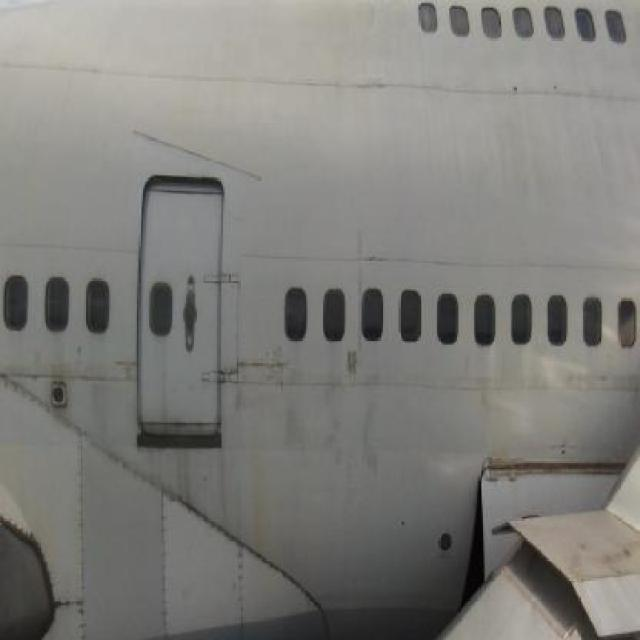Rust: (242, 422, 276, 570)
Scartch: (341, 344, 359, 378)
